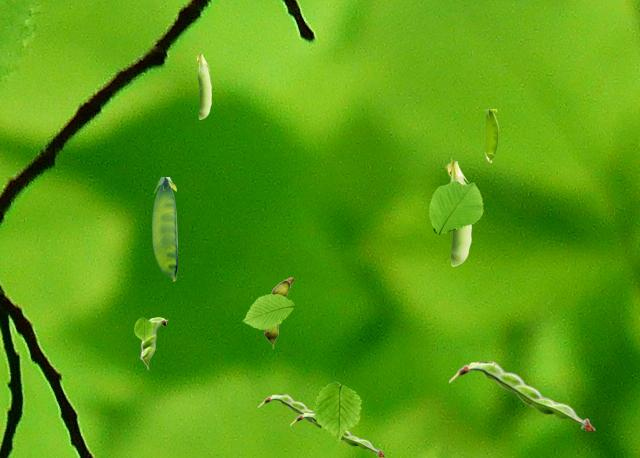pea: (449, 361, 594, 429), (290, 412, 384, 455), (258, 394, 350, 432), (445, 158, 470, 265), (152, 177, 176, 280), (264, 277, 293, 348), (140, 317, 167, 369), (195, 52, 210, 118), (485, 109, 497, 161)
